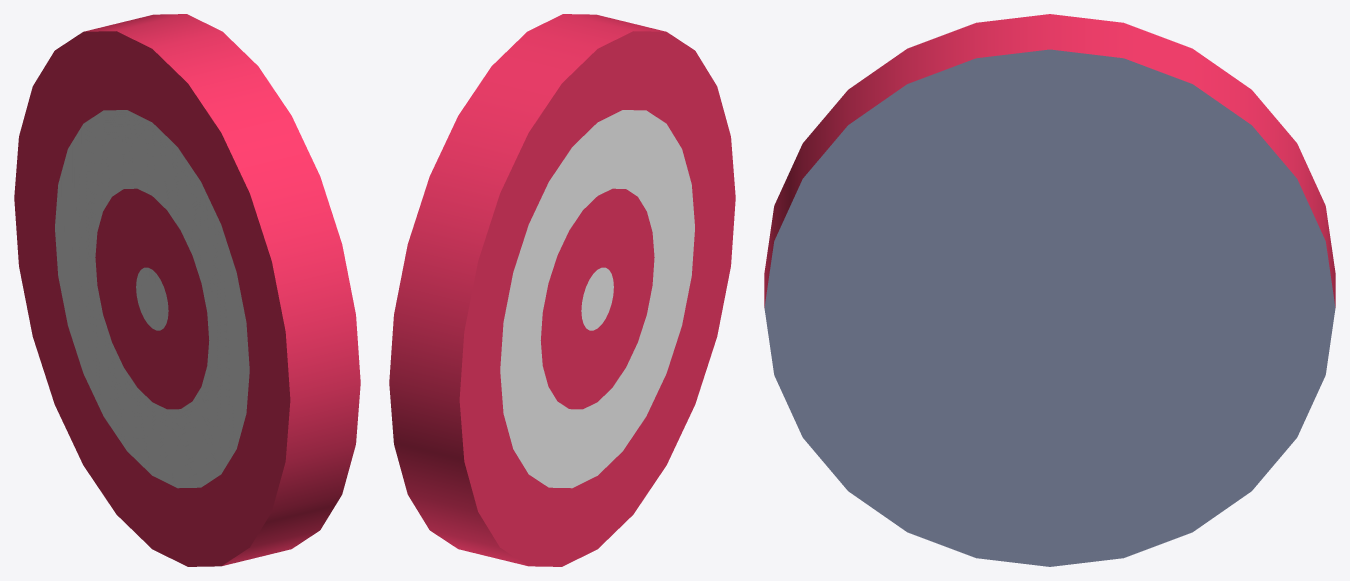
Rendered from targetA.fbx.
3 views of the same model, side by side, from view 1: azimuth 30°, elevation 25°; view 2: azimuth 150°, elevation 25°; view 3: azimuth 270°, elevation 25° (orthographic). The views are drawn at different scales.
Visible parts, largest first — view 1: targetA; view 2: targetA; view 3: targetA.
Part boxes in pixels (x1,y1,x2,y2): targetA: [14, 14, 360, 566]; targetA: [389, 14, 735, 566]; targetA: [764, 14, 1335, 566].
Bounding box in the file's own units: 0.5 × 3.4 × 3.4.
